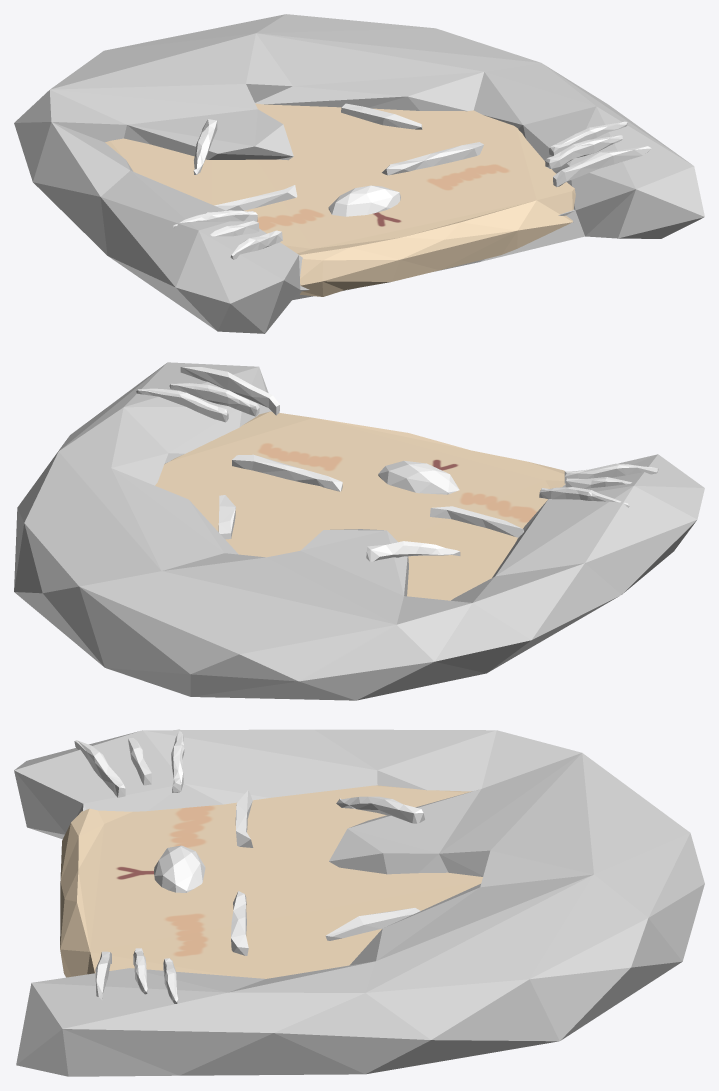
File: jumang.glb
3 renders of one model, top to bottom at view 1: azimuth 30°, elevation 25°; view 2: azimuth 150°, elevation 25°; view 3: azimuth 270°, elevation 25°, orthographic. The views are drawn at different scales.
Visible parts, largest first — view 1: sphere, square, sphere2, square10, square06, square09, square04, square07, square08, square13, square05, square11 (+1 smaller); view 2: sphere, square, sphere2, square06, square10, square09, square05, square07, square08, square11, square13, square04 (+1 smaller); view 3: sphere, square, sphere2, square05, square04, square11, square06, square07, square13, square12, square10.
Part boxes in pixels (x1,y1,x2,y2): sphere: (14,14,704,333); square: (105,103,575,296); sphere2: (328,185,400,216); square10: (553,146,651,186); square06: (382,142,483,175); square09: (545,135,622,168); square04: (341,103,422,129); square07: (214,185,297,210); square08: (549,121,627,155); square13: (173,210,257,228); square05: (193,119,217,174); square11: (230,230,282,259); sphere: (14,362,704,700); square: (155,411,565,600); sphere2: (378,460,459,494); square06: (232,454,342,491); square10: (180,367,279,415); square09: (169,383,259,416); square05: (366,541,460,561); square07: (430,506,523,537); square08: (136,388,228,422); square11: (564,463,658,483); square13: (539,487,629,507); square04: (218,495,235,539); sphere: (14,729,704,1076); square: (60,785,482,978); sphere2: (154,845,205,892); square05: (336,796,424,823); square04: (325,908,420,940); square11: (74,740,125,797); square06: (231,891,248,955); square07: (235,790,253,847); square13: (171,729,184,792); square12: (128,738,151,785); square10: (95,951,111,999).
Size of the model in its own units: 5.91 by 0.8841 by 5.84.
Materials: 4 (1 with a texture image).
